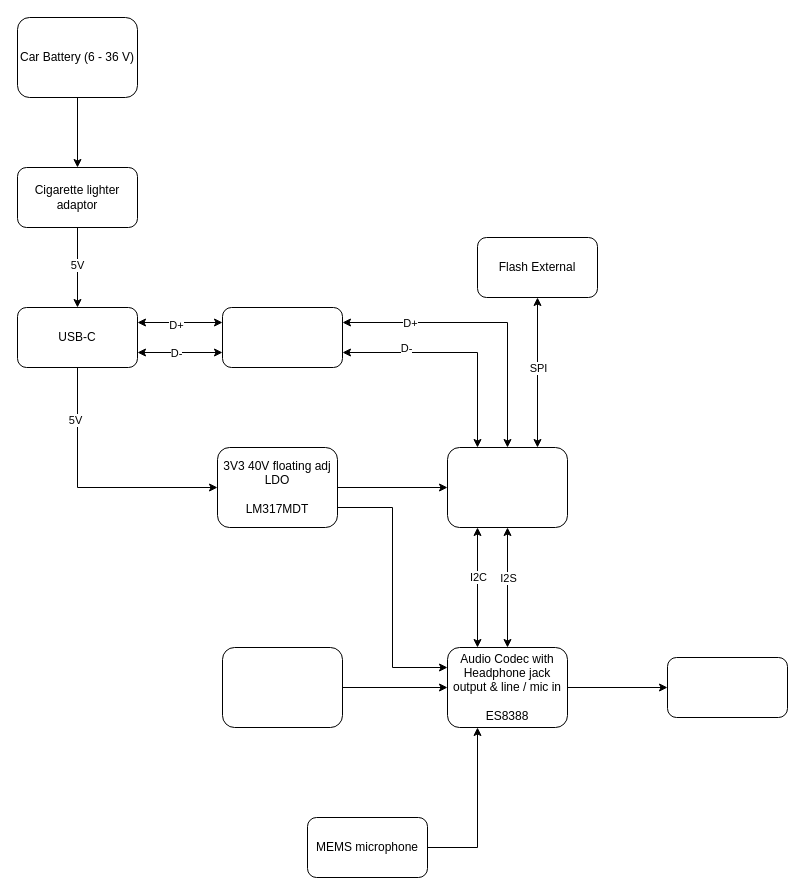
This 805x895 diagram has some shape labels left out. Each missing label, with the centre of its shape:
1V8 LDO TLV31718P: point 282,687
ESD protection (TVS diodes): point 282,337
Stereo headphone jack: point 727,687
uC with Bluetooth ESP-32D0WD-V3: point 507,487
